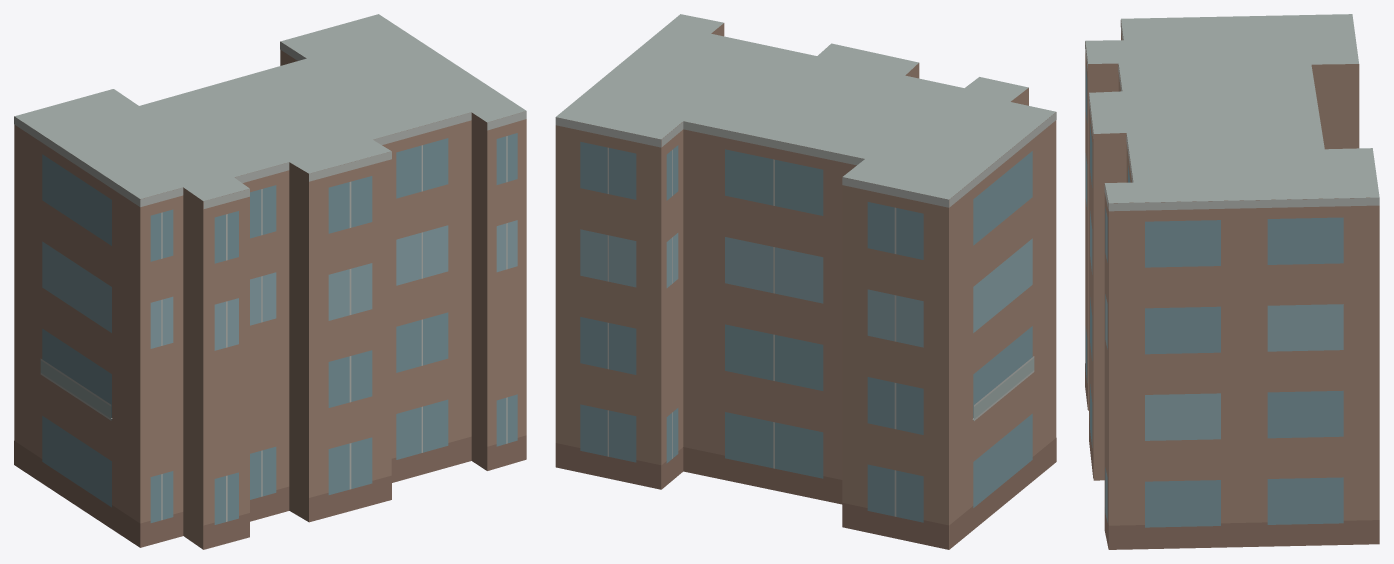
The model's file is survey-upis-32815569.glb.
3 views of the same model, side by side, from view 1: azimuth 30°, elevation 25°; view 2: azimuth 150°, elevation 25°; view 3: azimuth 270°, elevation 25° (orthographic).
Parts seen in each view (by area): view 1: survey-upis-32815569.tmp; view 2: survey-upis-32815569.tmp; view 3: survey-upis-32815569.tmp.
Boxes of the visible parts, x1,y1,x2,y2 form: survey-upis-32815569.tmp: [14, 14, 526, 549]; survey-upis-32815569.tmp: [555, 14, 1056, 549]; survey-upis-32815569.tmp: [1085, 14, 1379, 549].
Size of the model in its own units: 12.3 by 10.5 by 8.09.
